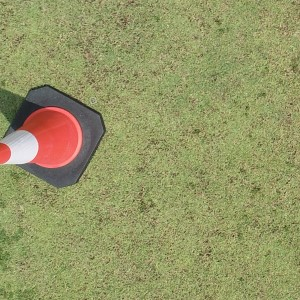traffic cone: (1, 84, 105, 188)
